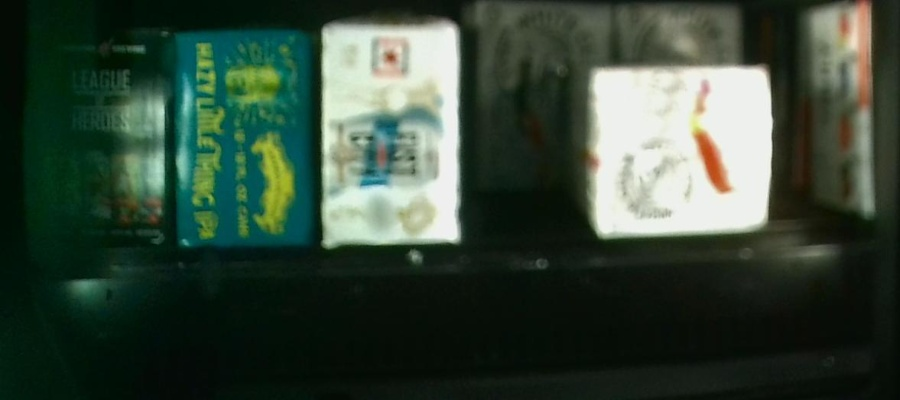bottle: (583, 63, 774, 242), (28, 25, 172, 250), (171, 29, 317, 247), (321, 22, 461, 245)
